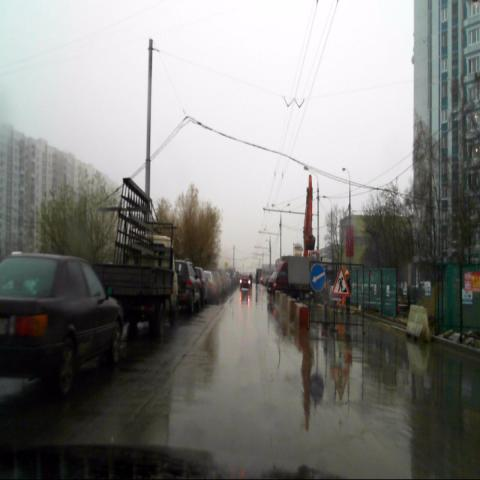4_2_2: (310, 264, 326, 291)
